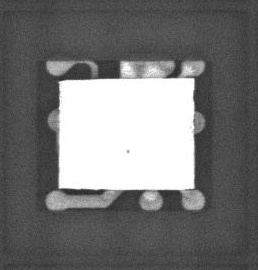DIE_INK: (119, 155, 124, 161)
